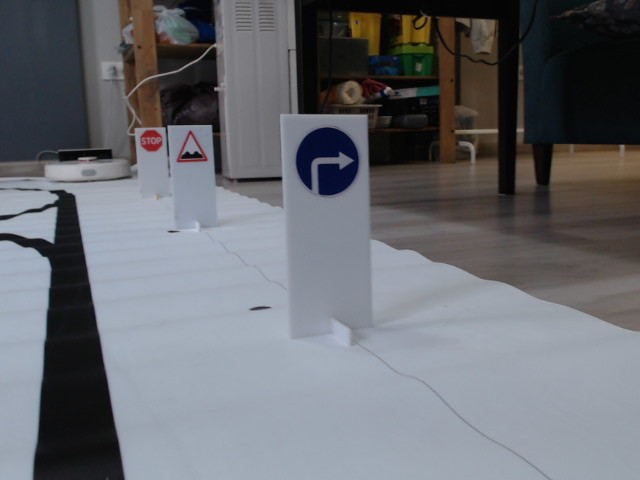Nerov: (176, 130, 208, 163)
Right: (293, 126, 361, 199)
Stop: (139, 128, 164, 152)
